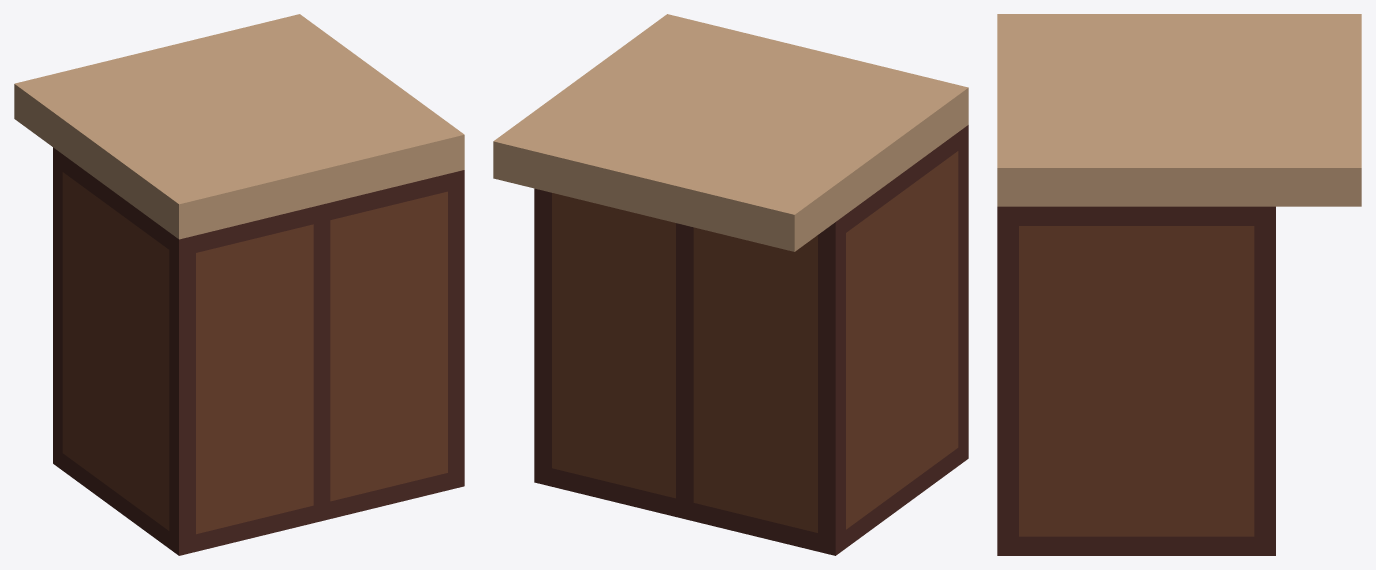
Rendered from bar_wall.gltf.
3 renders of one model, left to right at view 1: azimuth 30°, elevation 25°; view 2: azimuth 150°, elevation 25°; view 3: azimuth 270°, elevation 25°, orthographic. The views are drawn at different scales.
Visible parts, largest first — view 1: Layer.1; view 2: Layer.1; view 3: Layer.1.
Part boxes in pixels (x1,y1,x2,y2): Layer.1: (14, 14, 464, 555); Layer.1: (493, 14, 968, 555); Layer.1: (997, 14, 1361, 555).
Bounding box in the file's own units: 17 × 20 × 17.
